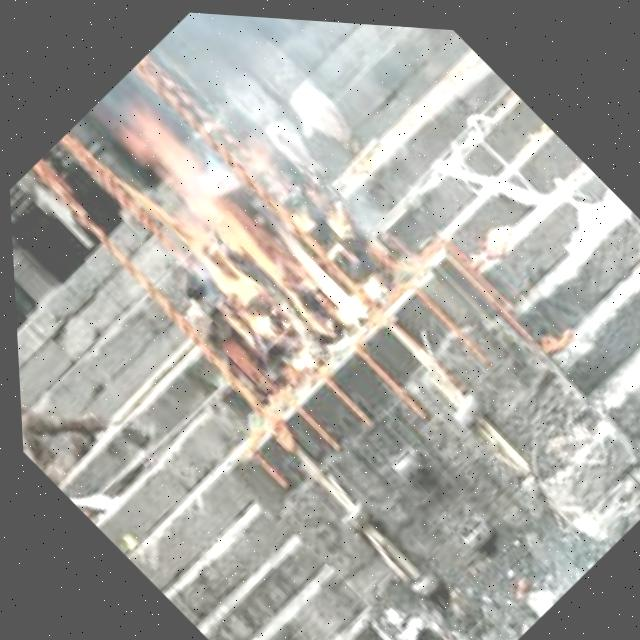Fire: (72, 60, 392, 383)
